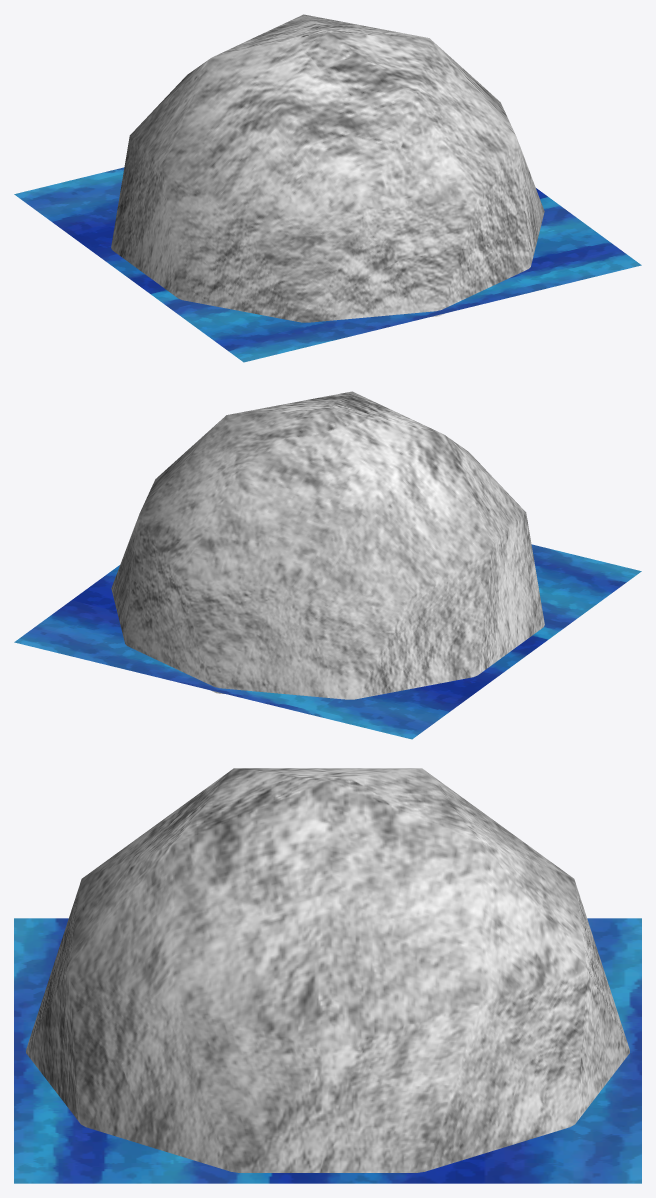
Rendered from Cave.obj.
3 views of the same model, one above another, from view 1: azimuth 30°, elevation 25°; view 2: azimuth 150°, elevation 25°; view 3: azimuth 270°, elevation 25° (orthographic). The views are drawn at different scales.
Bounding box in the file's own units: 121 × 58.75 × 121.
Materials: 2 (2 with a texture image).
